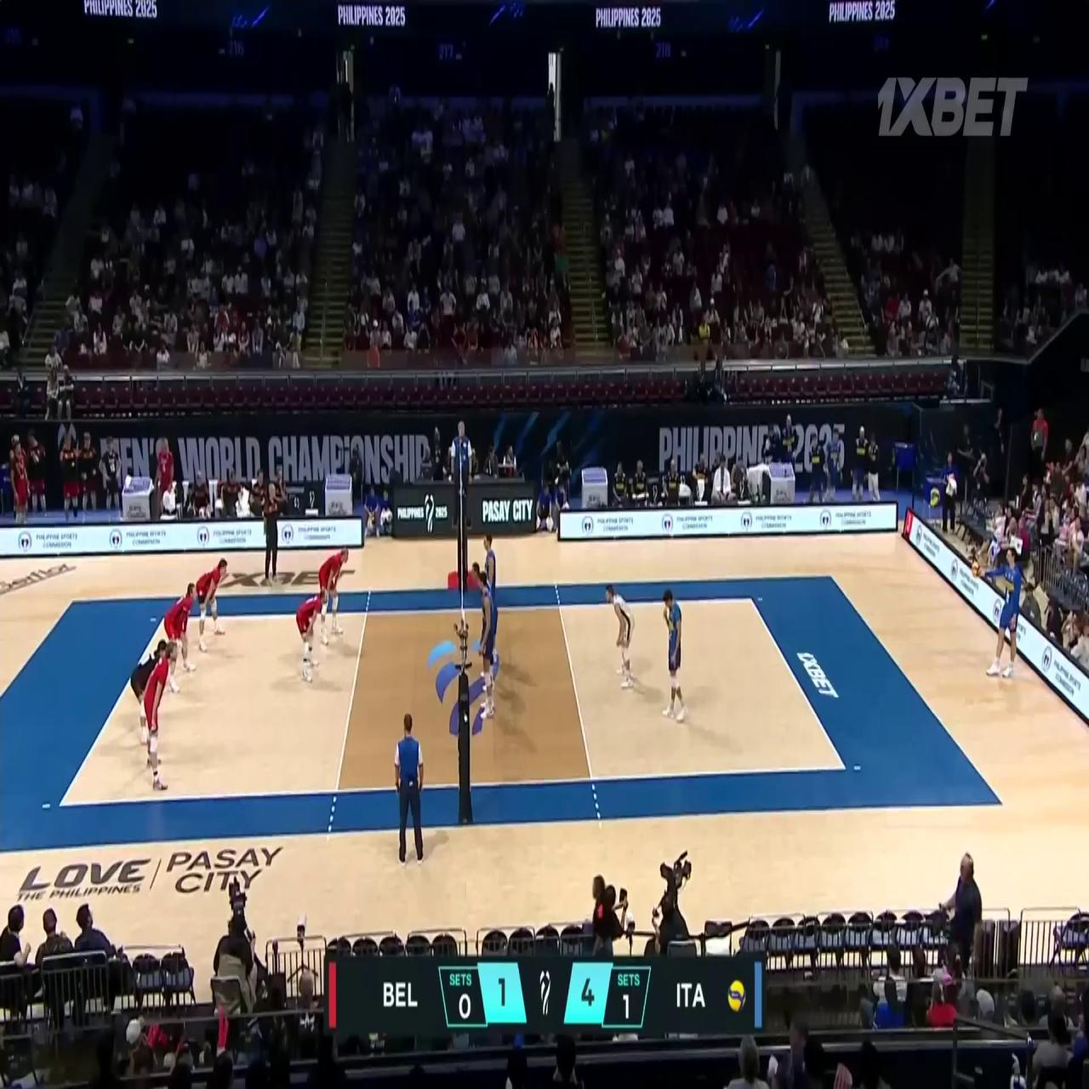ball: (971, 562, 980, 577)
